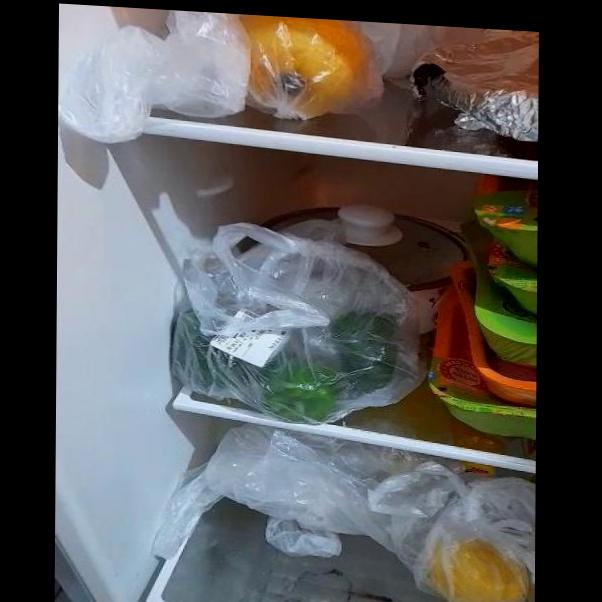lemon: (233, 14, 372, 115), (427, 533, 533, 602)
